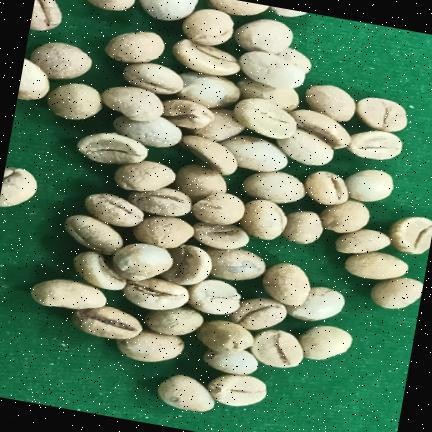cut: (31, 280, 142, 339), (233, 98, 297, 139), (238, 51, 305, 89), (219, 136, 288, 172), (173, 39, 240, 76), (289, 110, 350, 149), (65, 215, 123, 255), (177, 72, 240, 108), (30, 43, 92, 79), (113, 244, 173, 281), (101, 87, 164, 122), (77, 133, 148, 164), (181, 136, 237, 175), (237, 77, 299, 112), (117, 330, 184, 362), (113, 116, 182, 147), (123, 278, 189, 310), (277, 129, 334, 166), (158, 375, 214, 412), (262, 264, 310, 307), (161, 245, 212, 285), (235, 19, 293, 54), (250, 330, 303, 368), (286, 287, 345, 321), (173, 165, 227, 202), (243, 172, 305, 204), (47, 84, 102, 120), (133, 216, 194, 248), (85, 194, 144, 227), (206, 247, 265, 280), (74, 252, 125, 290), (182, 9, 234, 46), (123, 63, 183, 95), (239, 200, 287, 240), (187, 280, 241, 315), (305, 85, 356, 122), (229, 298, 287, 330), (187, 280, 240, 315), (298, 326, 352, 360), (105, 32, 164, 63), (128, 188, 191, 217), (115, 161, 175, 191), (208, 375, 266, 406), (197, 320, 253, 352), (345, 252, 408, 280), (356, 98, 407, 132), (145, 307, 204, 336), (192, 193, 245, 225), (320, 200, 370, 233), (370, 278, 423, 309), (347, 131, 402, 160), (389, 217, 432, 254), (345, 170, 393, 202), (147, 144, 201, 172), (304, 171, 348, 205), (0, 167, 37, 207), (203, 349, 258, 375), (336, 229, 391, 254), (282, 211, 323, 244), (17, 59, 49, 100), (140, 0, 198, 21), (30, 0, 62, 31), (87, 0, 135, 11)
